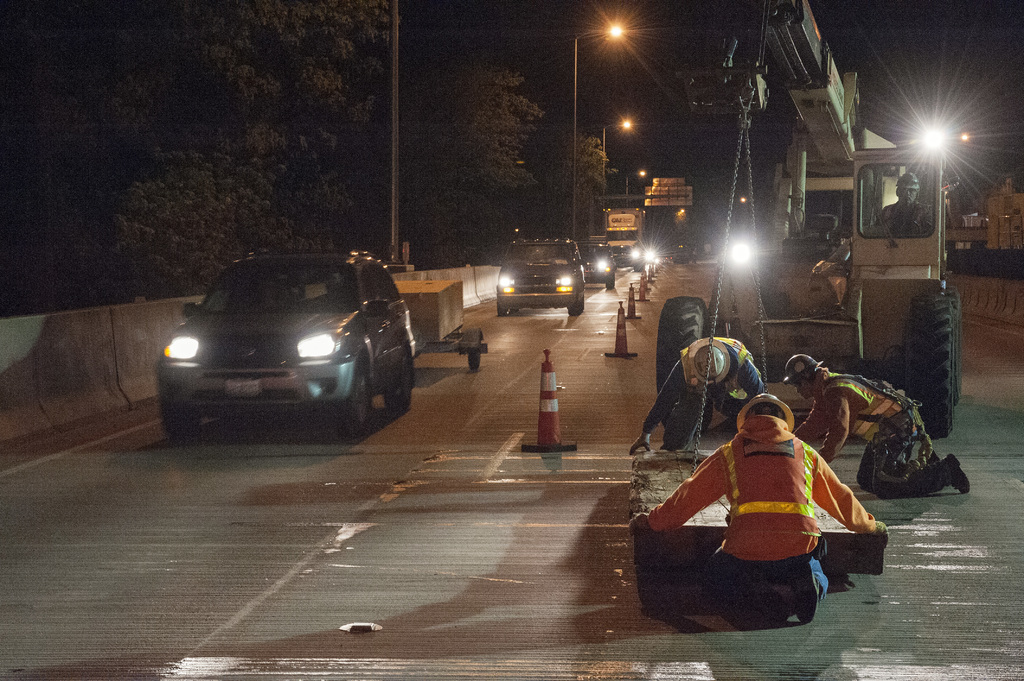Car: (147, 239, 415, 444), (494, 236, 582, 311), (578, 234, 613, 289)
